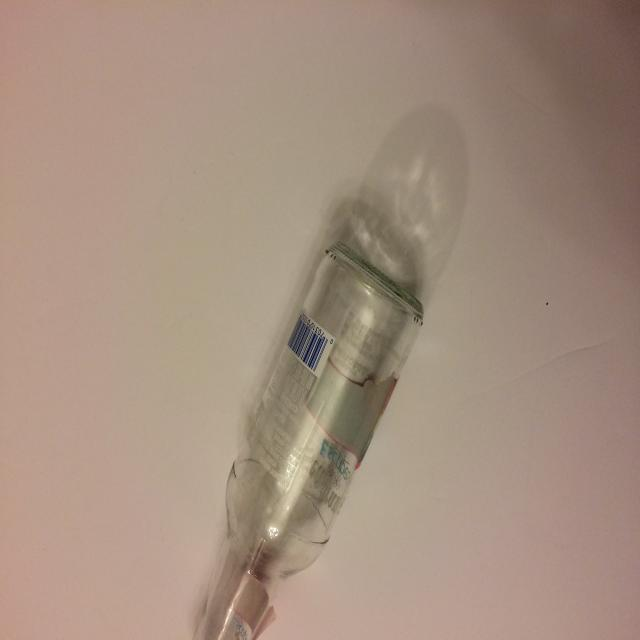glass: (187, 100, 470, 640)
